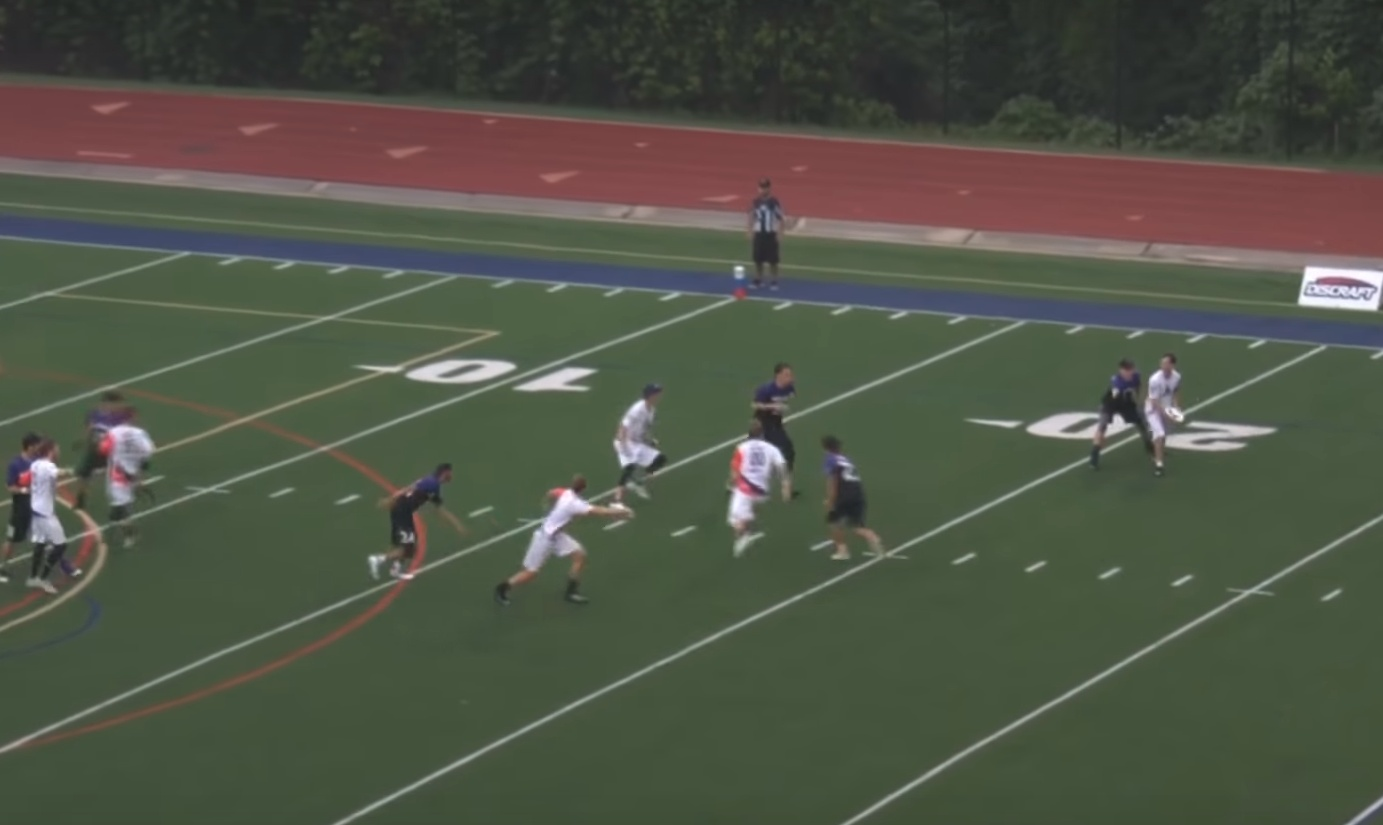frisbee: (1165, 405, 1185, 423)
